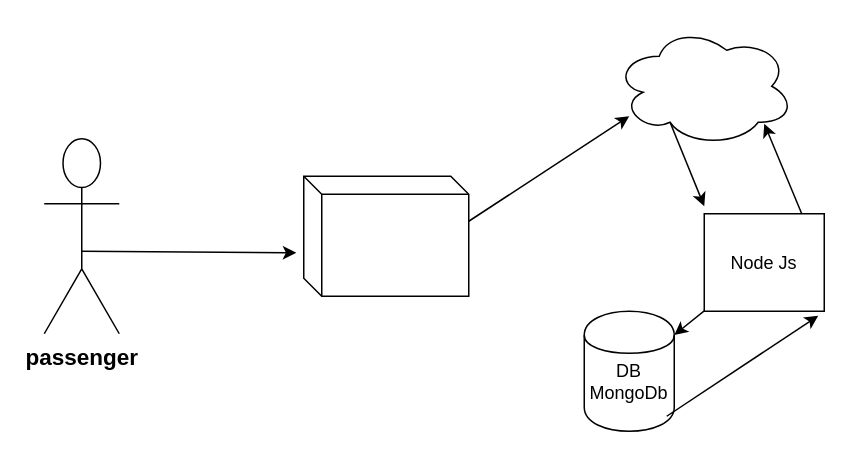
This 857x458 diagram has some shape labels left out. The box of each missing label's shape, as (x1, y1, x2, y2) in pixels:
Microsoft Cloud -Azure-: (613, 25, 794, 146)
Mobile Application: (302, 175, 469, 296)
